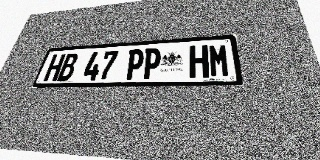4: (82, 51, 104, 81)
7: (97, 50, 119, 80)
B: (56, 53, 79, 81)
H: (189, 45, 209, 78), (43, 54, 66, 82)
M: (208, 44, 231, 78)
P: (124, 49, 145, 80), (141, 48, 162, 79)
